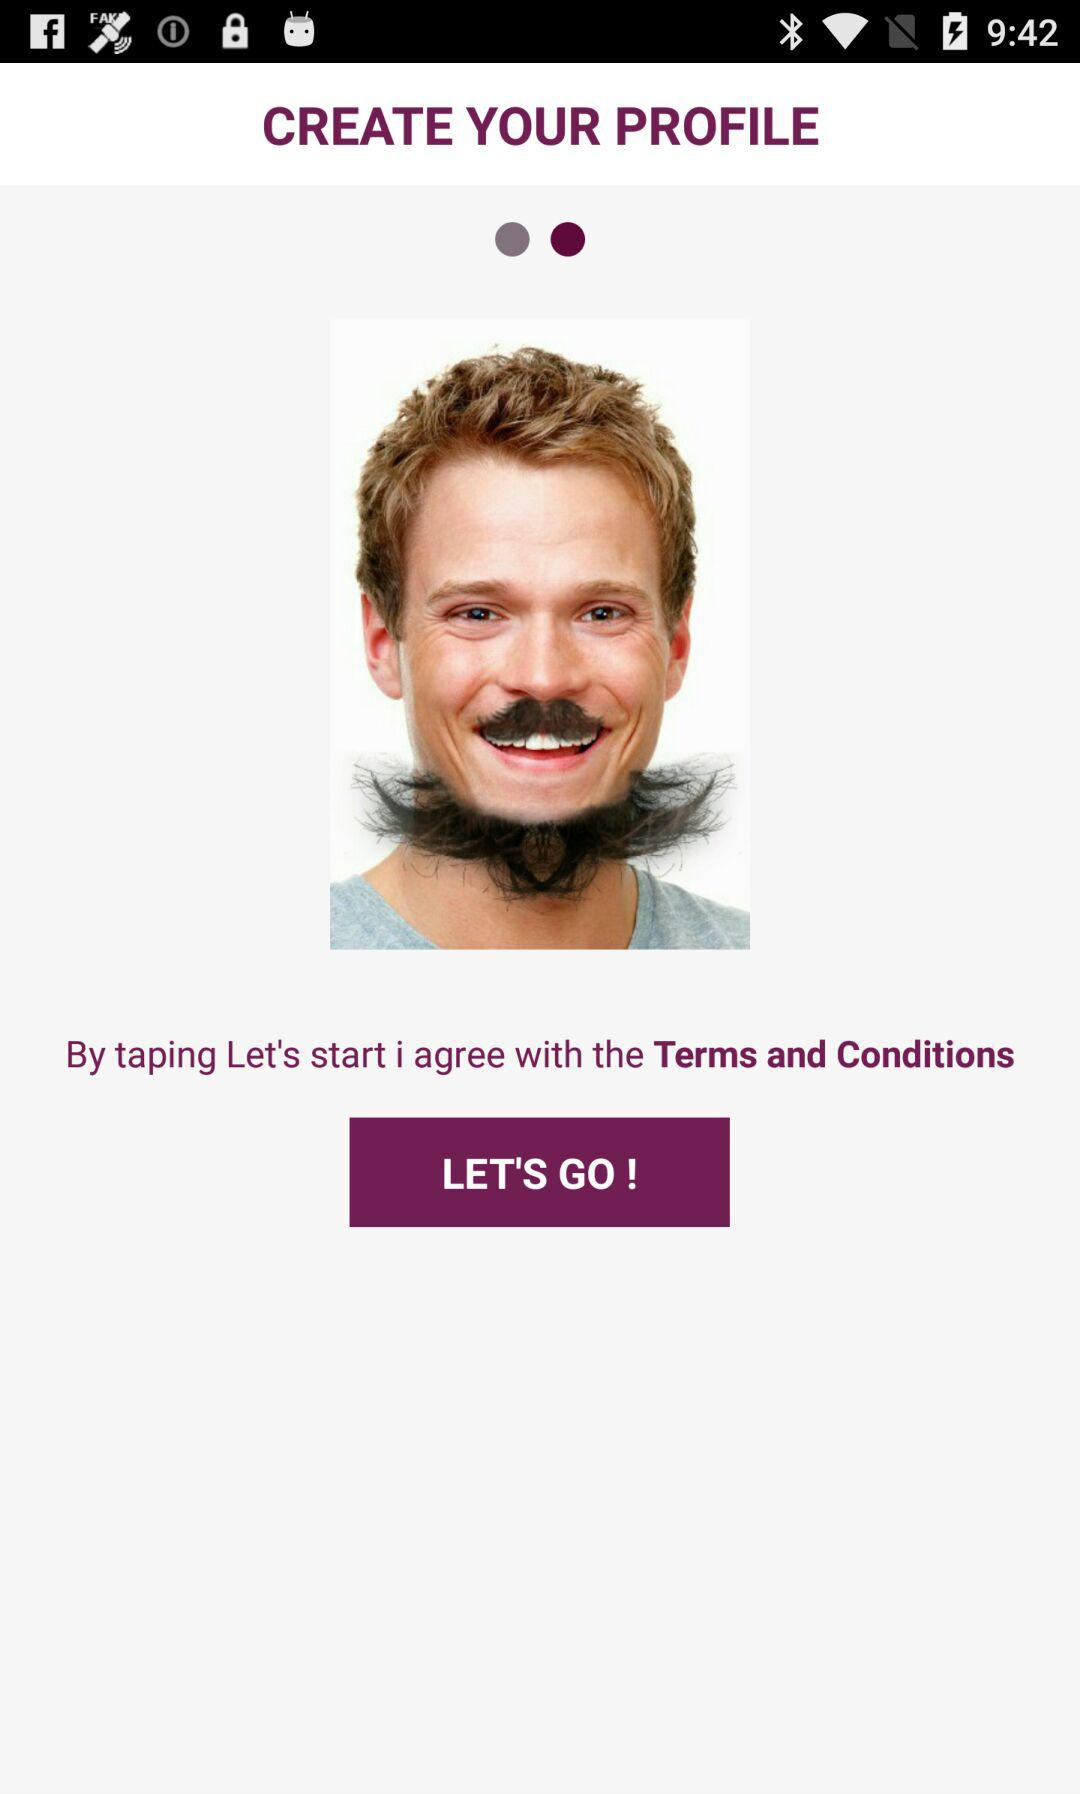Image: (329, 318, 752, 951)
PageIndicator: (495, 220, 587, 259)
Text: (68, 1038, 1015, 1076), (264, 108, 820, 147)
TextButton: (348, 1117, 732, 1228)
UpperTaskBar: (1, 1, 1080, 64)
